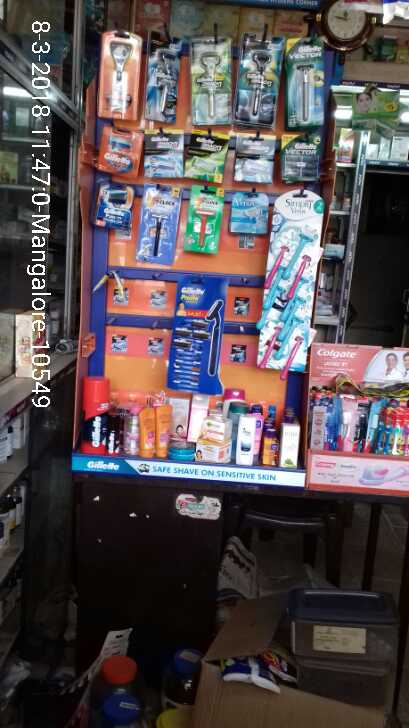beauty: (260, 199, 321, 370), (174, 280, 220, 389), (192, 43, 233, 130), (287, 41, 320, 122), (149, 34, 177, 123), (244, 39, 274, 121), (281, 134, 320, 182), (187, 136, 228, 181), (83, 378, 107, 453), (144, 134, 183, 177), (232, 196, 271, 238), (236, 139, 274, 182)
